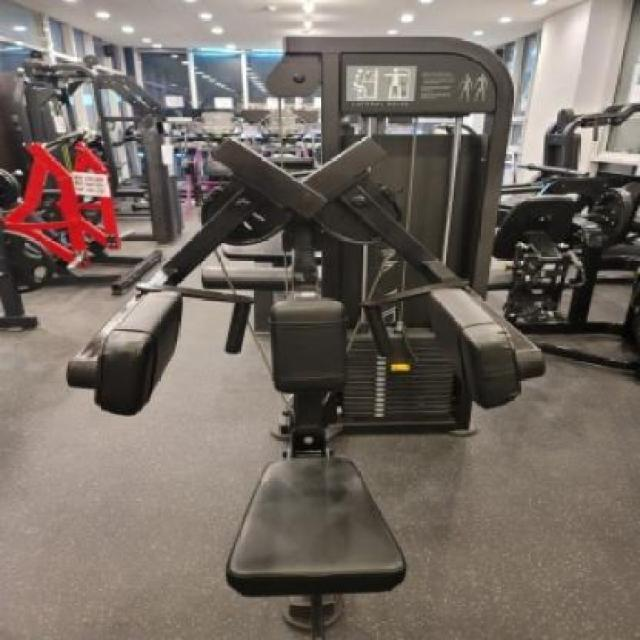lateral raises machine: (69, 249, 549, 640)
